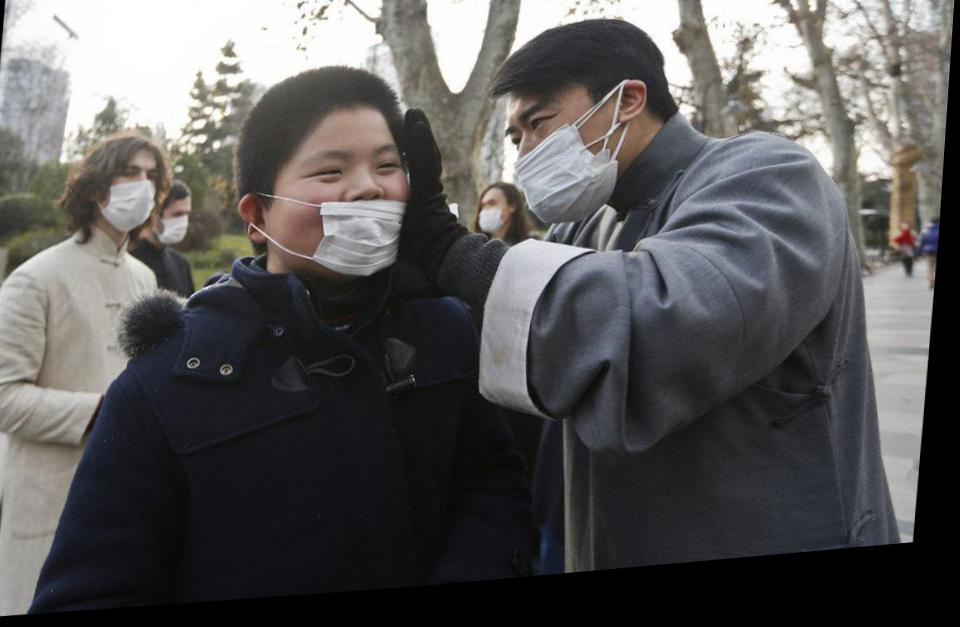OK: (505, 86, 625, 241), (105, 159, 165, 235), (159, 196, 198, 249), (483, 198, 518, 244)
WRONG: (281, 131, 417, 291)
